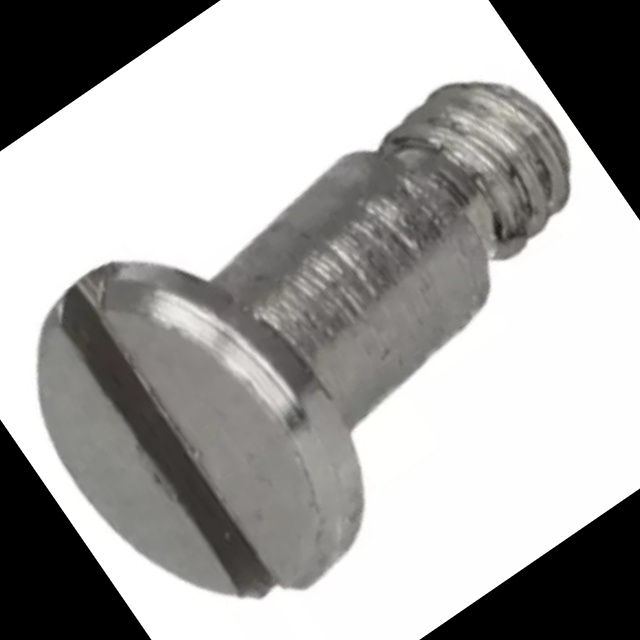duz: (0, 196, 415, 640)
